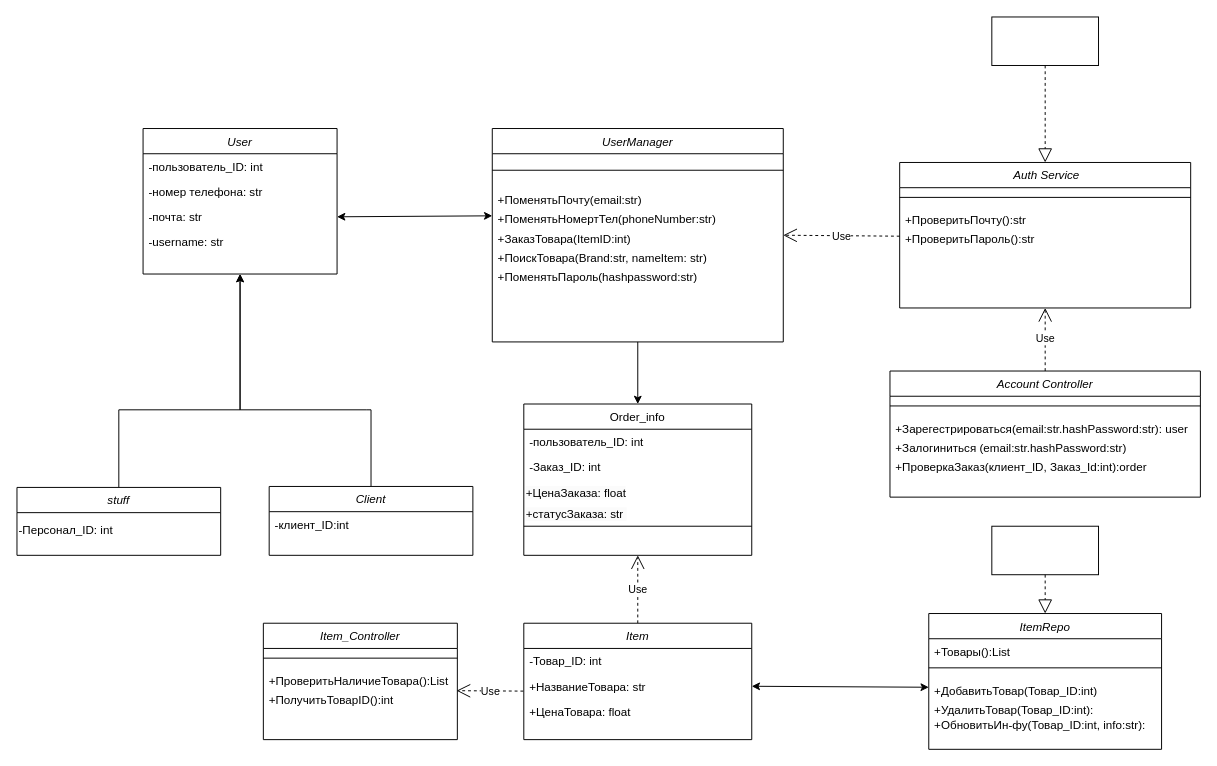
Some shapes in this 1217 by 766 pixel diagram are drawn without their labels. Here are the shapes that lost their labels. From the top down, the centre of each, then its label:
(x=1045, y=40): "interface" iBaseAuthInterface
(x=1045, y=550): "interface" iBaseRepo
